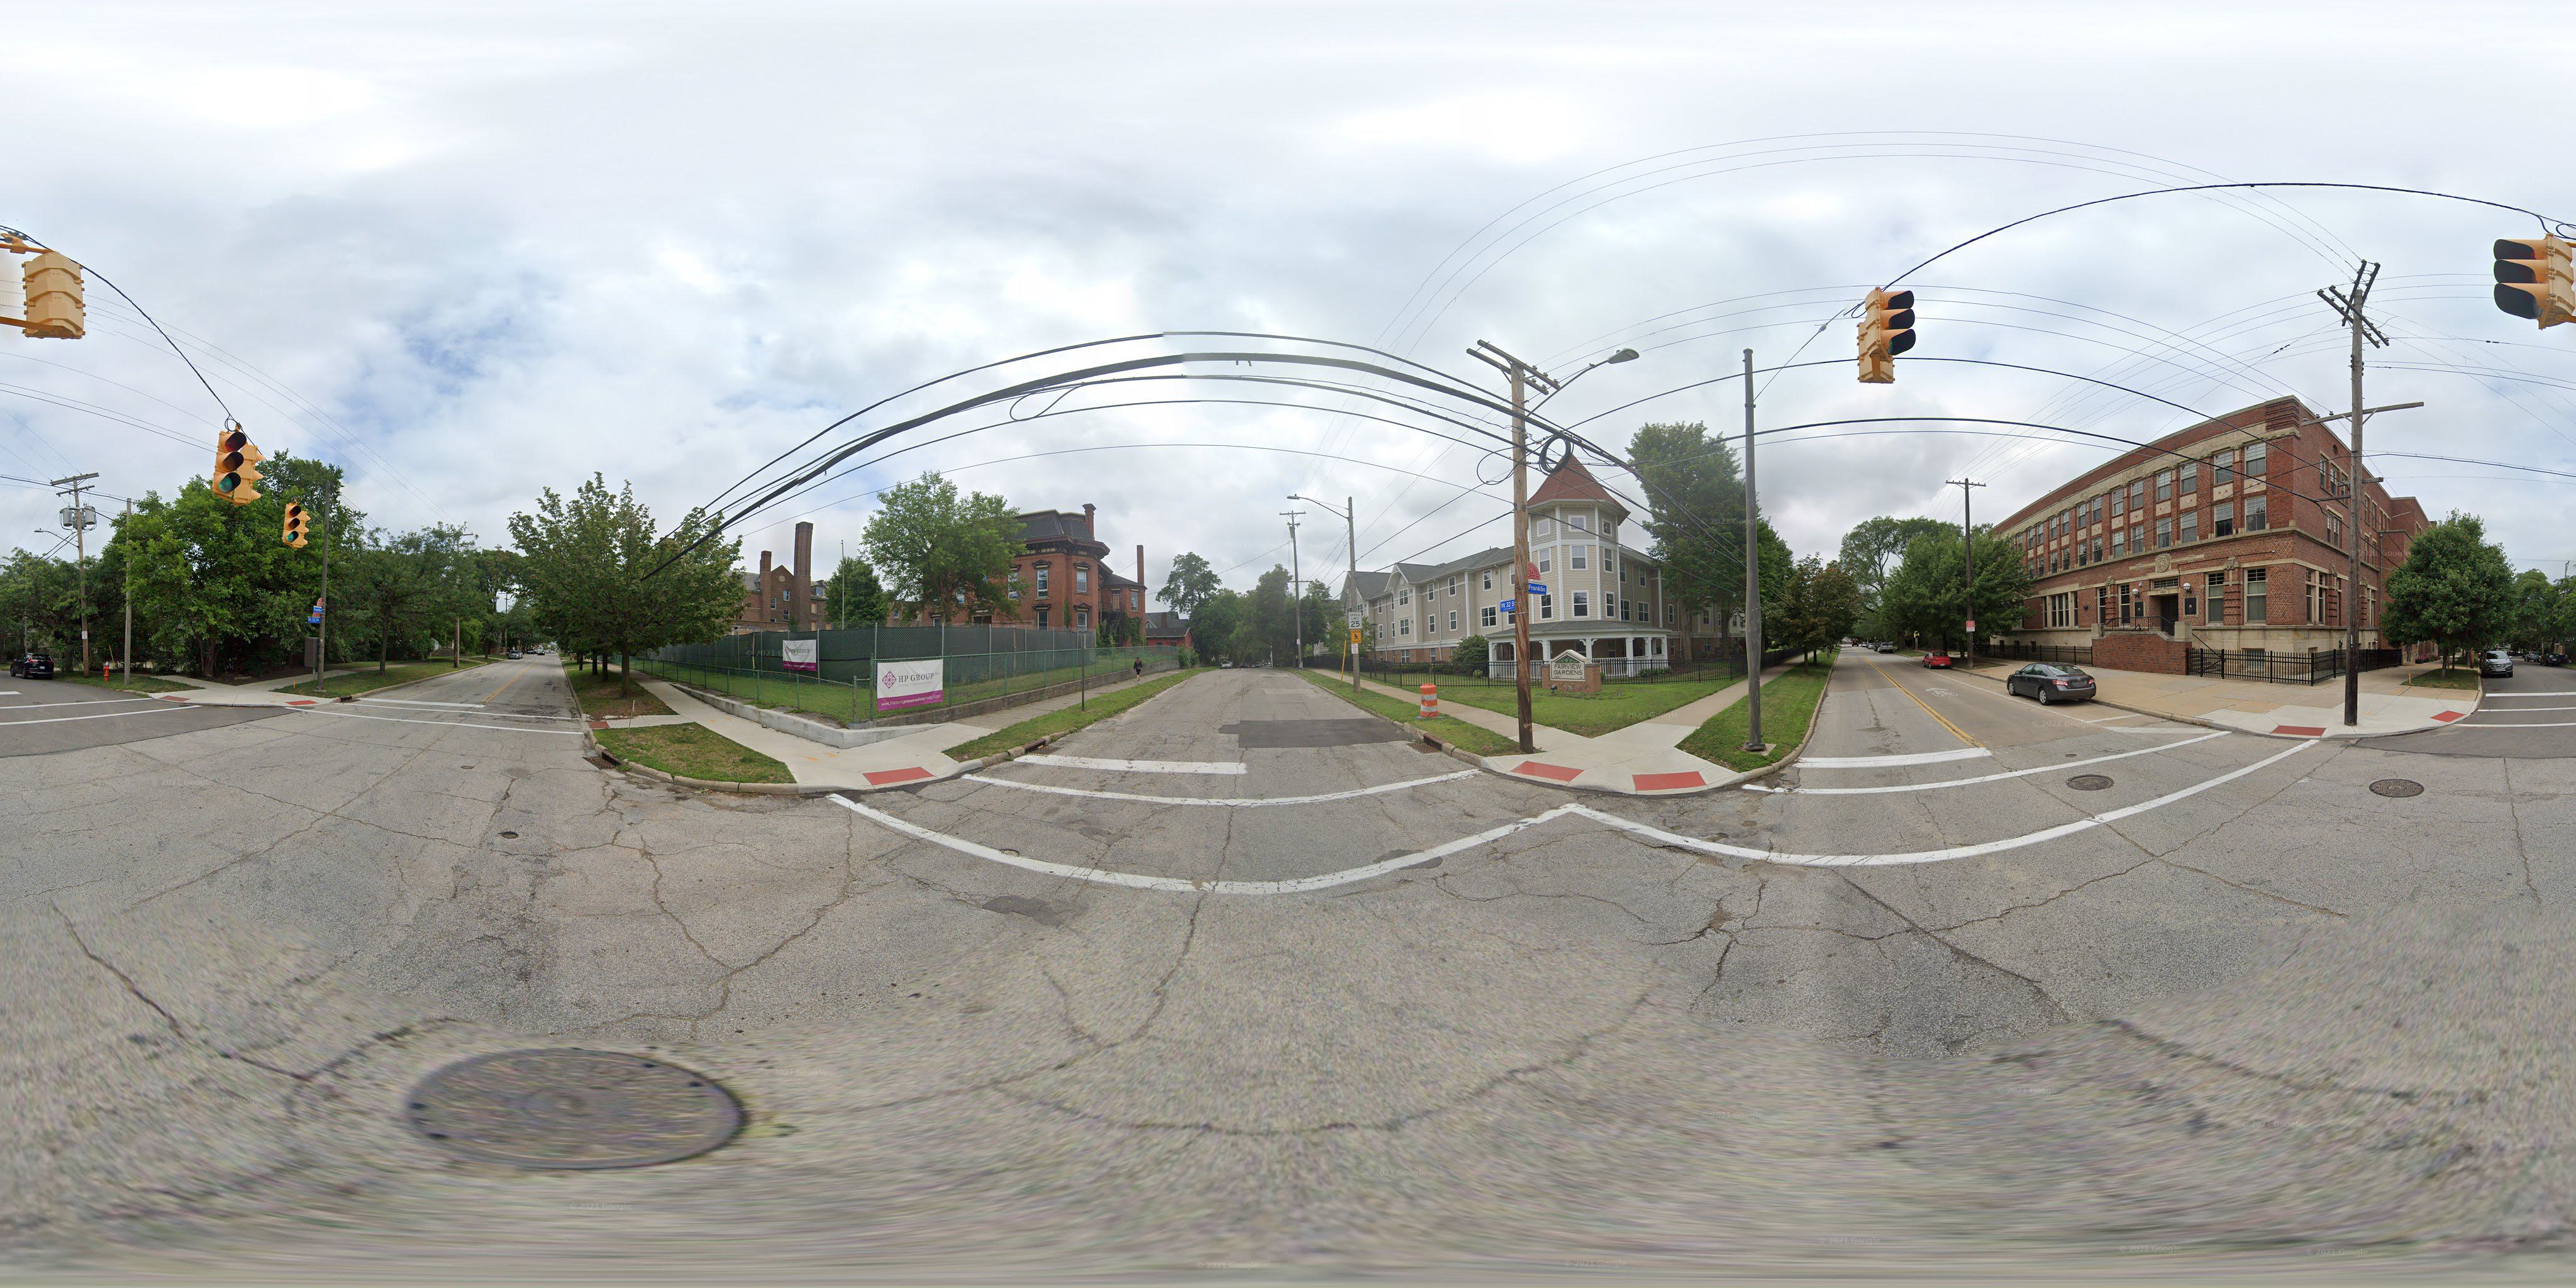Curb Ramp: (1482, 738, 1592, 810), (1612, 751, 1720, 815), (833, 749, 954, 803), (2254, 703, 2338, 754), (2420, 695, 2479, 731), (570, 708, 624, 741), (148, 683, 204, 713), (273, 695, 329, 713)
